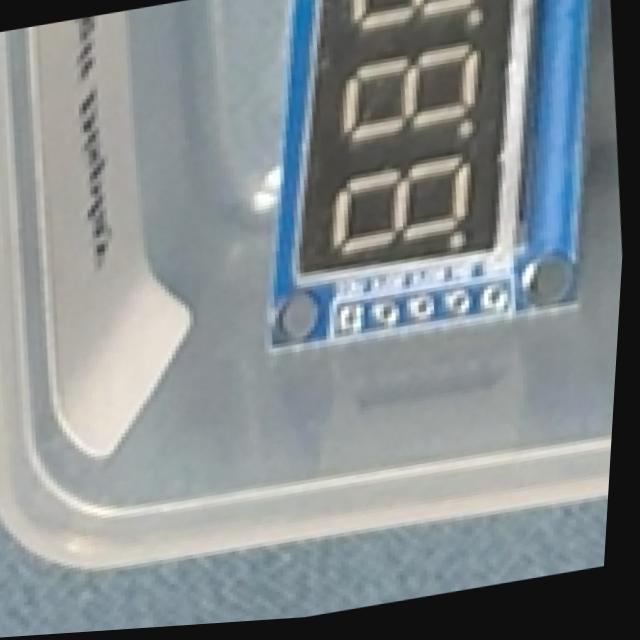Digit Display: (225, 0, 636, 363)
